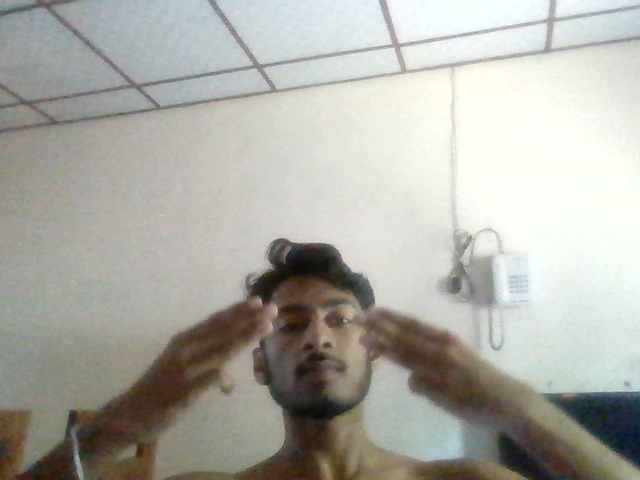ThankYou: (119, 296, 525, 439)
